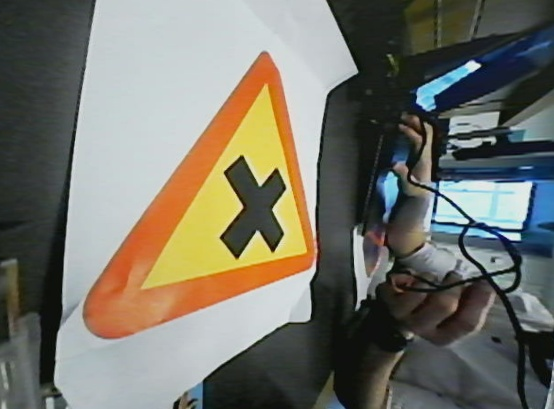junction: (89, 47, 314, 347)
